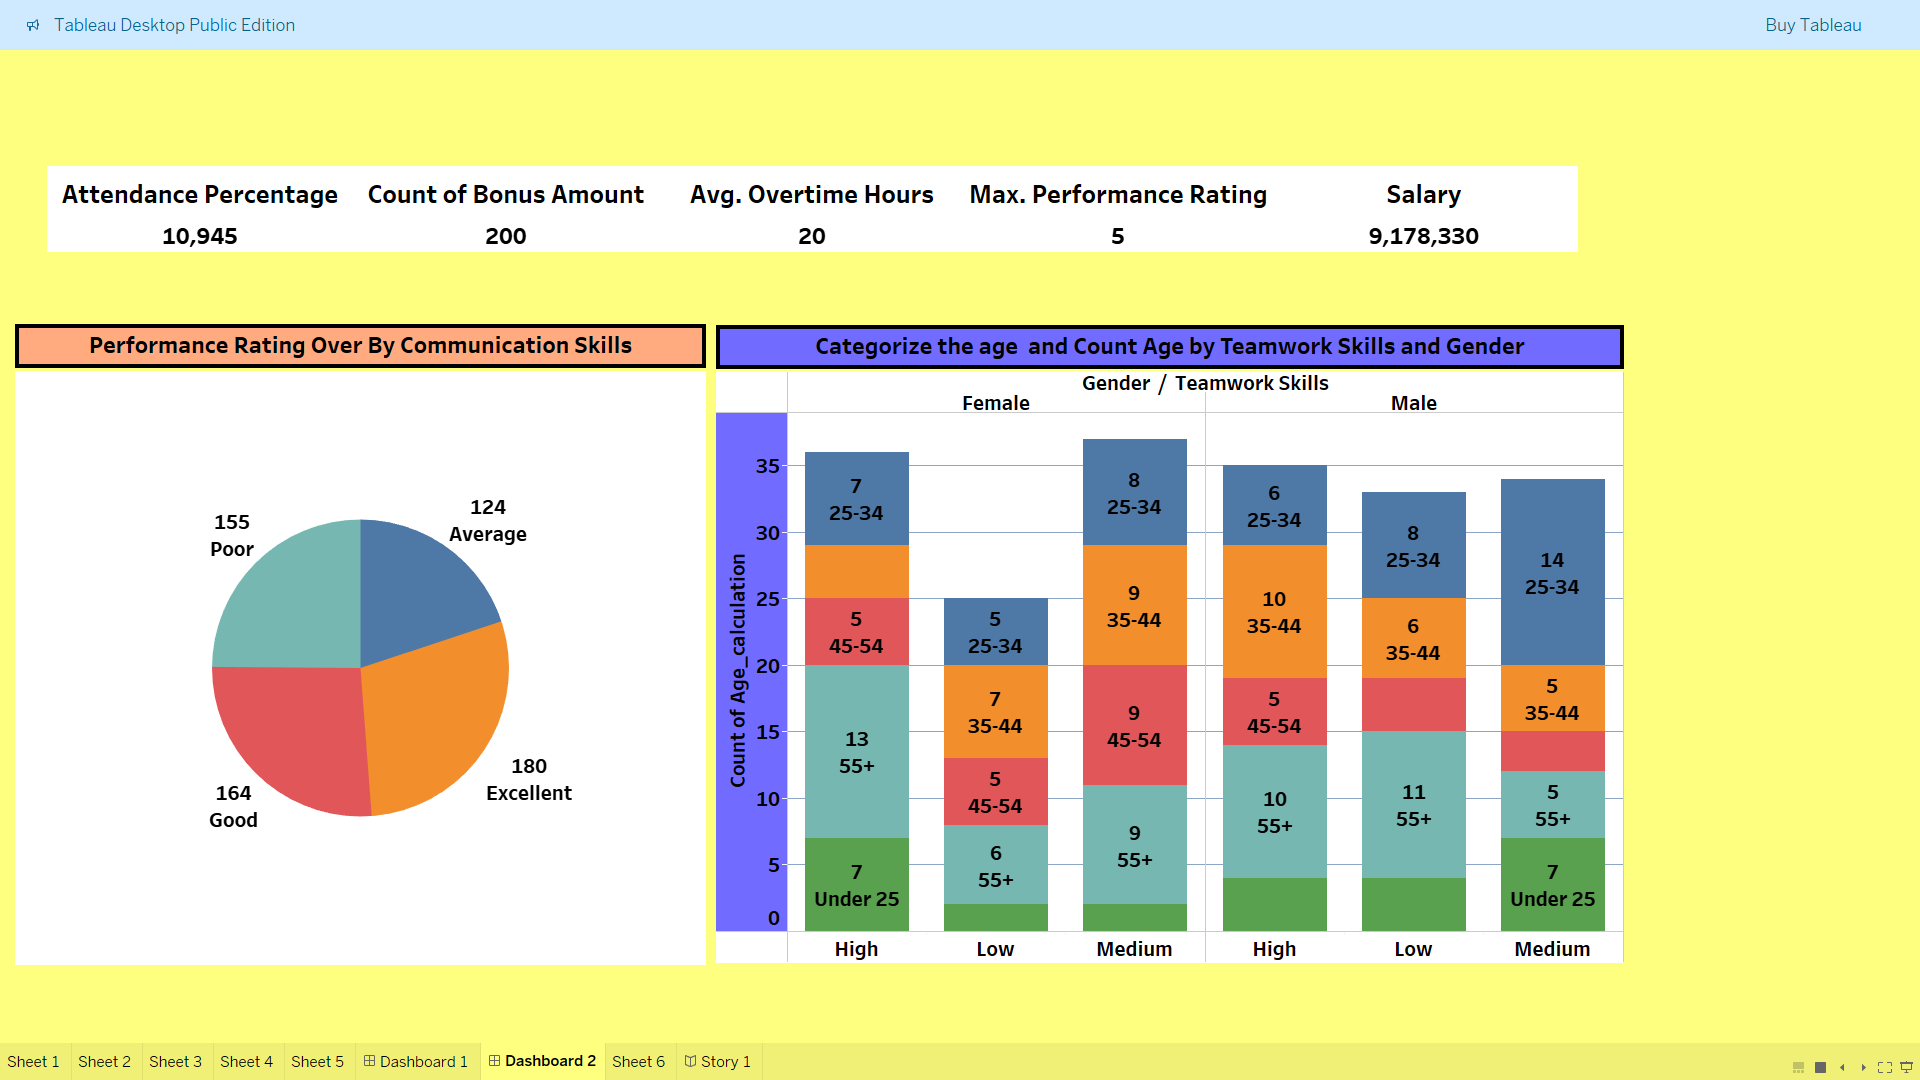

Layout of this report page (visuals, bound fields, positions):
{"tool":"tableau","page":{"name":"Dashboard 2","canvas":[1000,1000],"units":"permille","ordinal":1},"visuals":[{"type":"worksheet","title":"Sheet 5","mark":"Automatic","box":[24.5,42.2,807.8,152.4]},{"type":"worksheet","title":"Sheet 3","mark":"Pie","box":[7.8,242,359.9,745.2]},{"type":"worksheet","title":"Sheet 4","mark":"Automatic","rows":["Calculation_1091278536622469120"],"cols":["gender","teamwork_skills"],"box":[372.9,243.3,472.9,741.4]}]}

Visuals, with their boxes on the dashboard's canvas, which has no fixed pixel size, in thousandths of its width and height (x1, y1, x2, y2). These are canvas units, not pixel positions in the 1920x1080 screenshot, which may show the page scaled, cropped or inside an application window:
"Sheet 5" worksheet: (24, 42, 832, 195)
"Sheet 3" worksheet (Pie marks): (8, 242, 368, 987)
"Sheet 4" worksheet: (373, 243, 846, 985)
